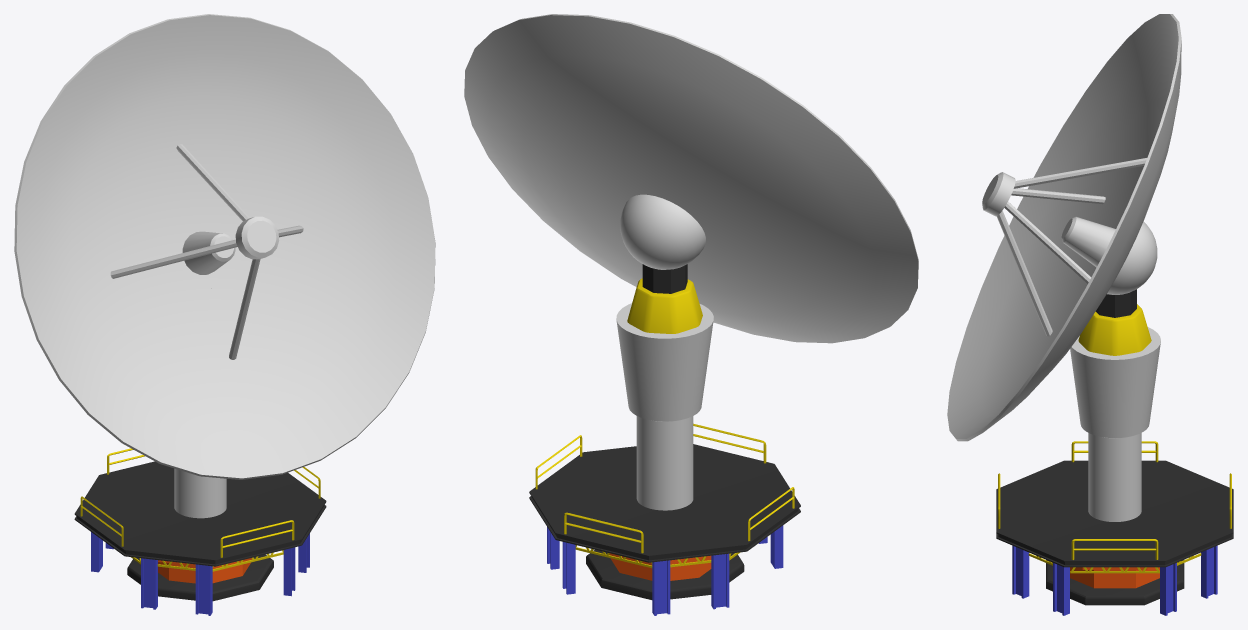
The model's file is atenna.fbx.
3 renders of one model, left to right at view 1: azimuth 30°, elevation 25°; view 2: azimuth 150°, elevation 25°; view 3: azimuth 270°, elevation 25°, orthographic. The views are drawn at different scales.
Parts seen in each view (by area): view 1: Cube.187; view 2: Cube.187; view 3: Cube.187.
Boxes of the visible parts, bbox=[...] form: Cube.187: bbox=[14, 14, 435, 615]; Cube.187: bbox=[464, 14, 918, 615]; Cube.187: bbox=[947, 14, 1233, 615].
Bounding box in the file's own units: 2176 × 2700 × 1303.
